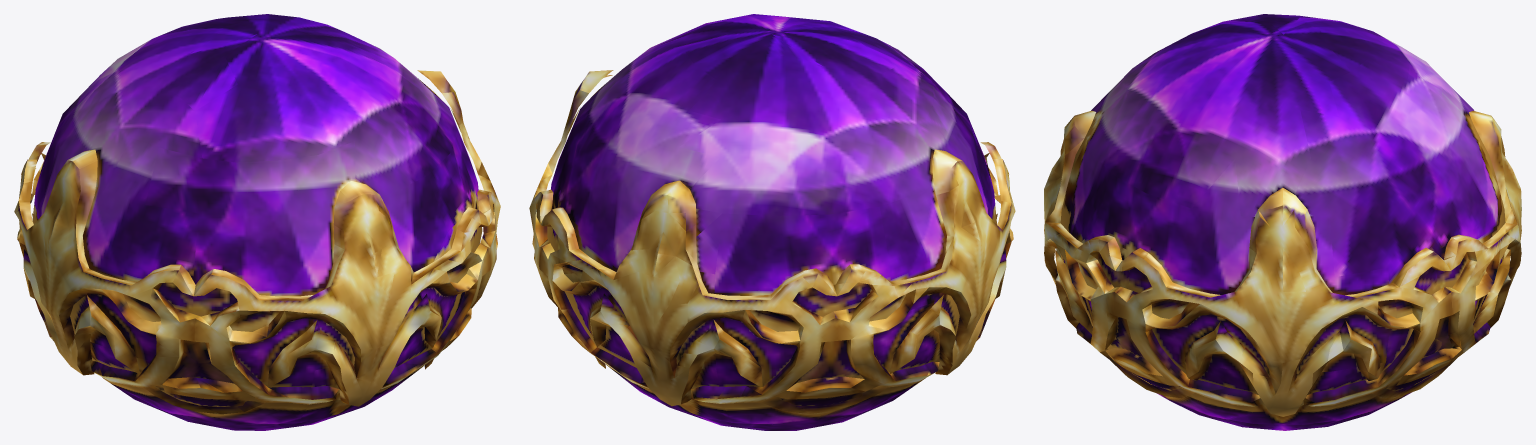
Rendered from item_maw_craft_gem15.glb.
The picture shows the model from 3 angles, left to right: view 1: azimuth 30°, elevation 25°; view 2: azimuth 150°, elevation 25°; view 3: azimuth 270°, elevation 25°; orthographic projection.
Parts seen in each view (by area): view 1: maw_gem15; view 2: maw_gem15; view 3: maw_gem15.
Boxes of the visible parts, x1,y1,x2,y2 form: maw_gem15: [14, 14, 500, 430]; maw_gem15: [529, 14, 1015, 430]; maw_gem15: [1044, 14, 1521, 430].
Bounding box in the file's own units: 1 × 0.8713 × 1.
1 material, 1 textured.
